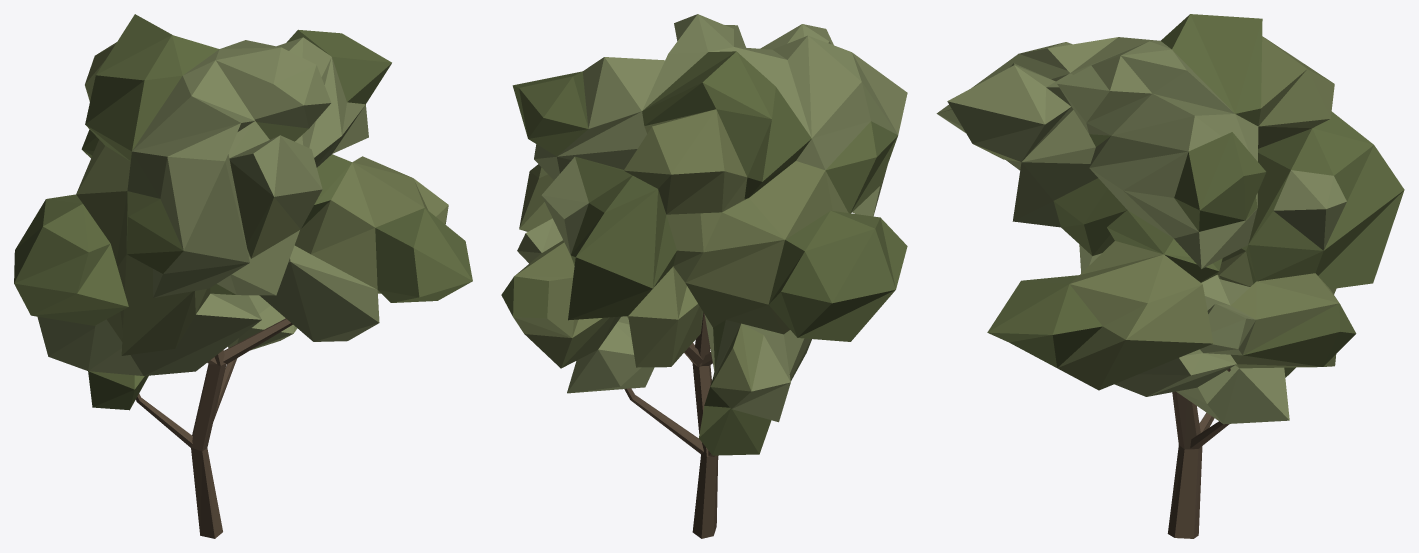
The picture shows the model from 3 angles, left to right: view 1: azimuth 30°, elevation 25°; view 2: azimuth 150°, elevation 25°; view 3: azimuth 270°, elevation 25°; orthographic projection. The views are drawn at different scales.
Parts seen in each view (by area): view 1: compact-step-2; view 2: compact-step-2; view 3: compact-step-2.
Boxes of the visible parts, bbox=[...] form: compact-step-2: bbox=[14, 14, 472, 538]; compact-step-2: bbox=[501, 14, 907, 538]; compact-step-2: bbox=[936, 14, 1404, 538].
Bounding box in the file's own units: 17.44 × 20.77 × 17.41.
